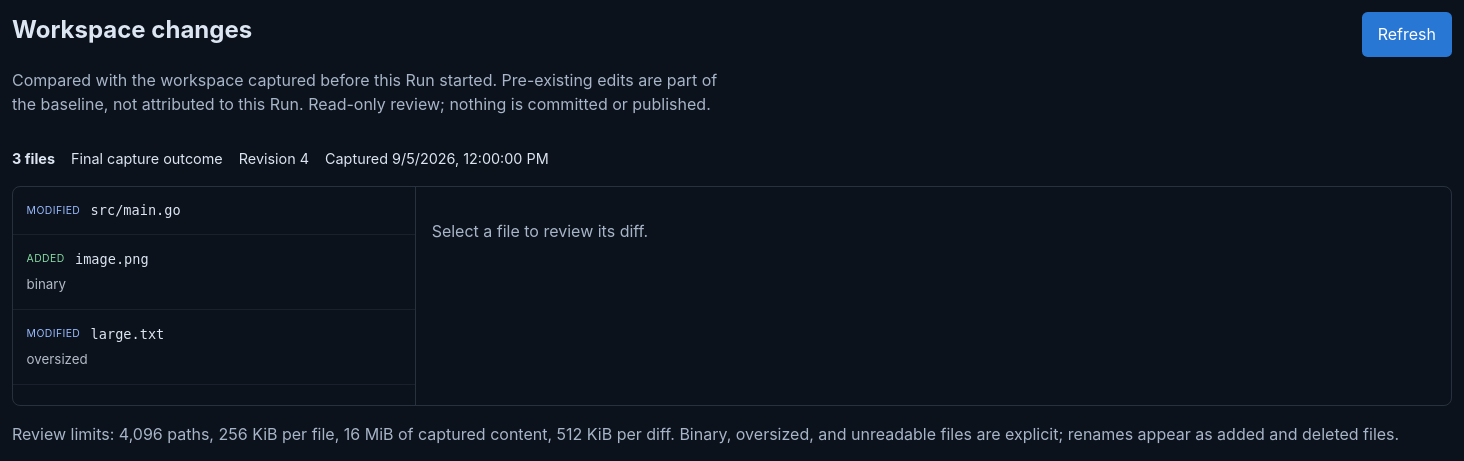
Run Changes › pins file requests to the selected Run UID and observation, with explicit unsupported states
The image size is (1464, 461).
Step 1. Click the button "modified src/main.go" → {"x": 53, "y": 210}, box [13,186,415,235]
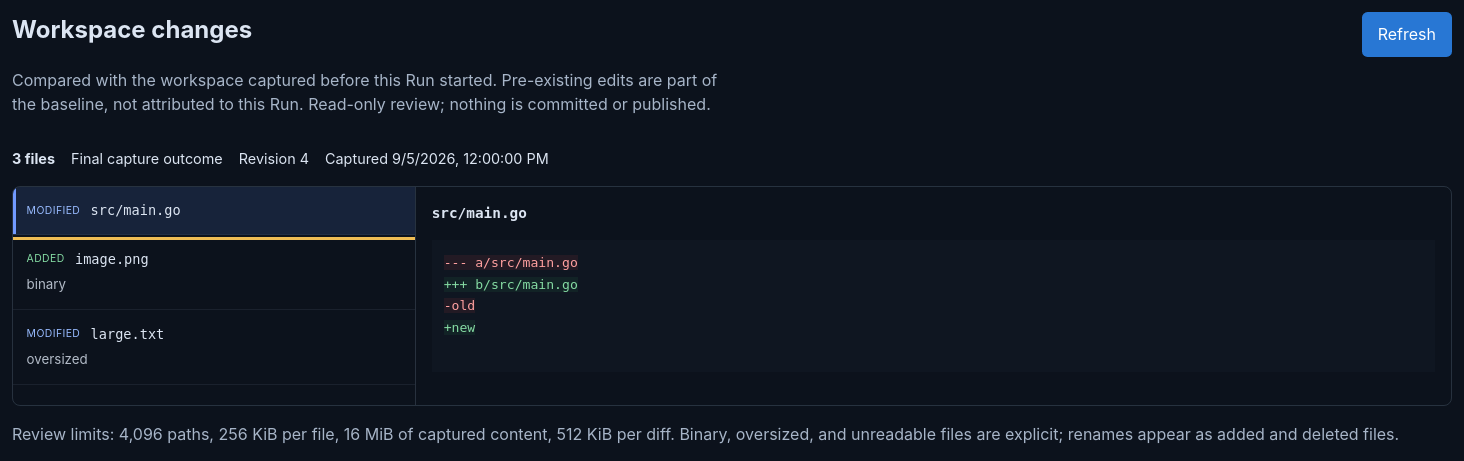
Expected: the text named "Observation revision" reads "Revision 4", [239,150,309,167]
Expected: the element named "Diff for src/main.go" shows "+new", [444,320,475,335]
Step 2. Click the button "added image.png binary" → {"x": 46, "y": 259}, box [13,235,415,310]
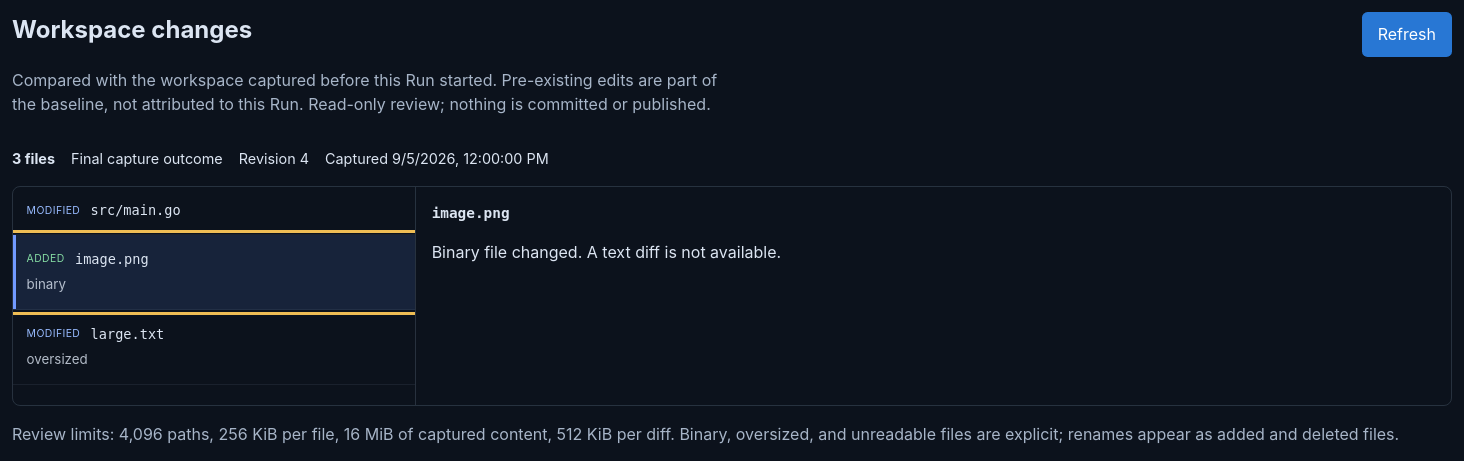
Expected: the text "Binary file changed. A text diff is not available." is shown, [432,242,781,262]
Step 3. Click the button "modified large.txt oversized" → {"x": 53, "y": 334}, box [13,310,415,385]
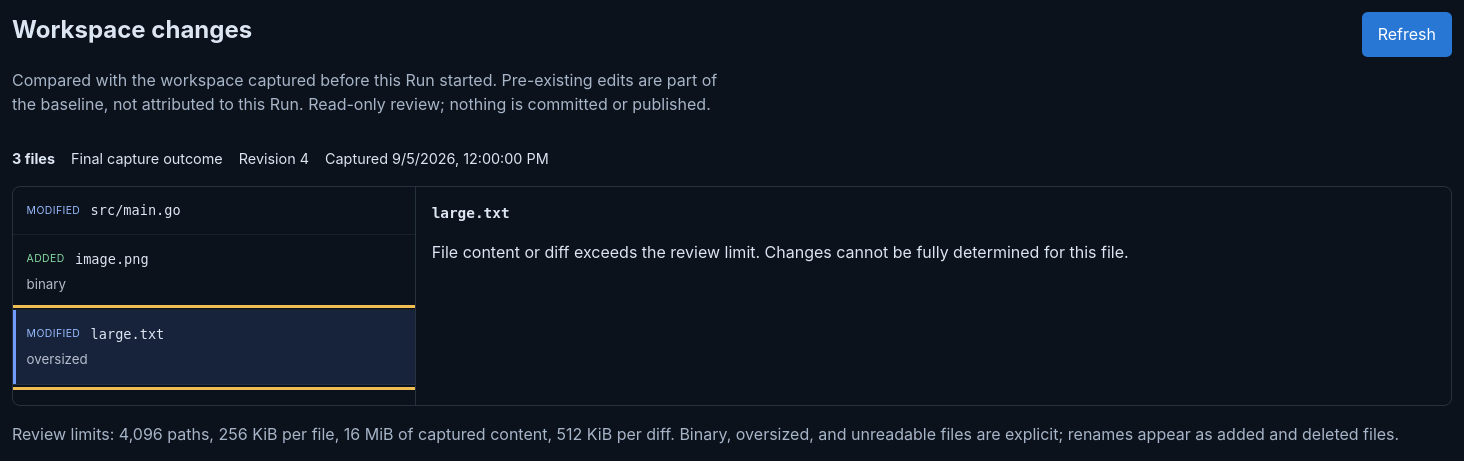
Expected: the text "exceeds the review limit" is shown, [432,242,1129,262]
